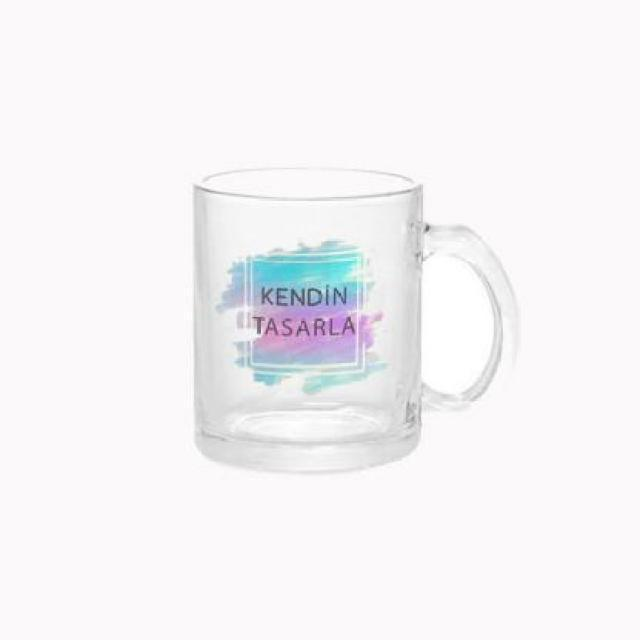taza: (180, 162, 532, 486)
